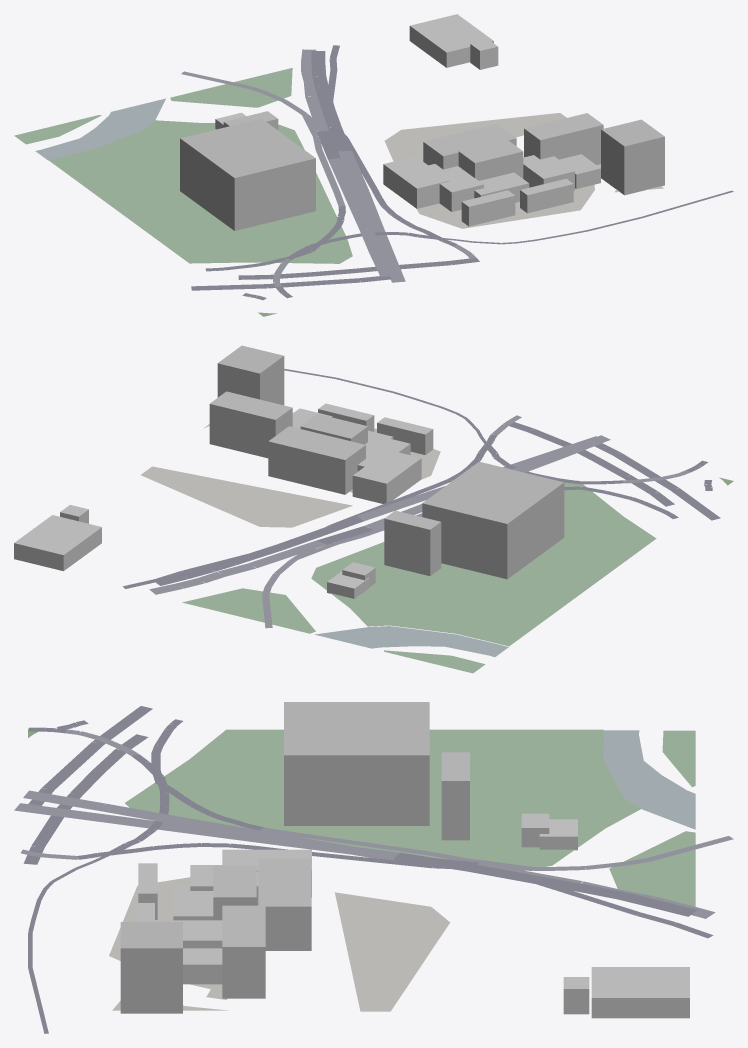
The model's file is 116_115_mid.glb.
The picture shows the model from 3 angles, top to bottom: view 1: azimuth 30°, elevation 25°; view 2: azimuth 150°, elevation 25°; view 3: azimuth 270°, elevation 25°; orthographic projection. The views are drawn at different scales.
Size of the model in its own units: 586 by 59.66 by 539.
